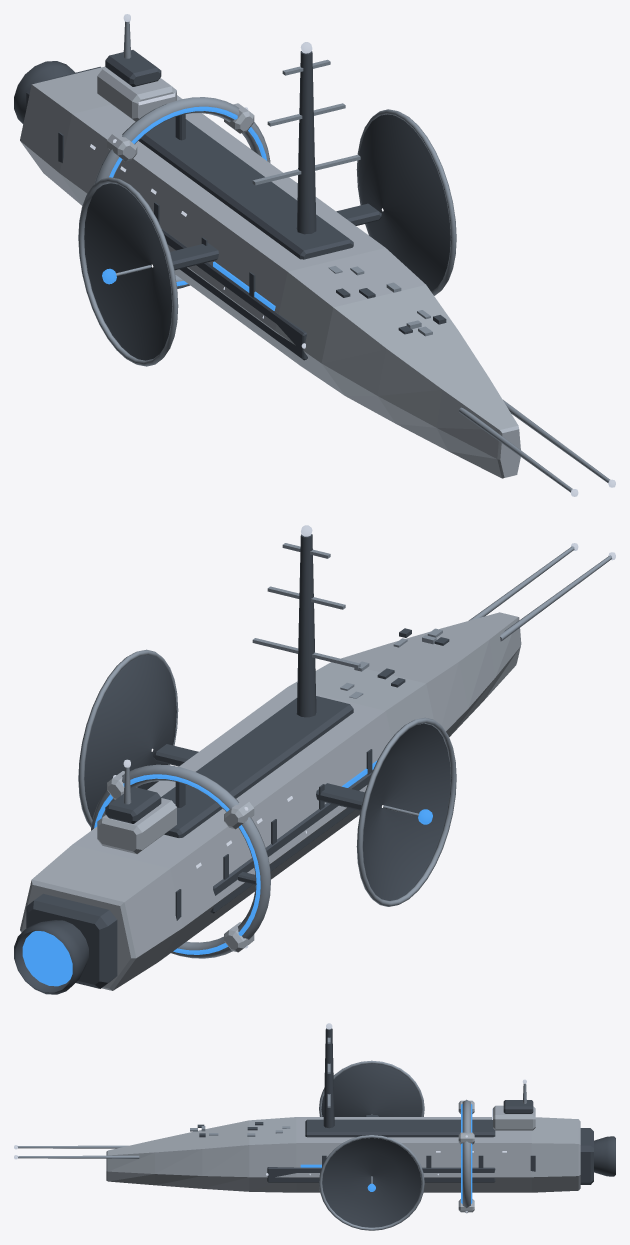
Rendered from comms.glb.
The picture shows the model from 3 angles, top to bottom: view 1: azimuth 30°, elevation 25°; view 2: azimuth 150°, elevation 25°; view 3: azimuth 270°, elevation 25°; orthographic projection. The views are drawn at different scales.
Parts seen in each view (by area): view 1: hull, hull2, trim, team_glow; view 2: hull, hull2, trim, team_glow; view 3: hull, hull2, trim, team_glow.
Boxes of the visible parts, x1,y1,x2,y2 form: hull: (20, 66, 520, 478); hull2: (14, 50, 450, 360); trim: (78, 21, 610, 492); team_glow: (102, 106, 275, 310); hull: (20, 612, 521, 990); hull2: (14, 534, 450, 994); trim: (78, 543, 611, 958); team_glow: (22, 760, 432, 986); hull: (106, 1100, 580, 1212); hull2: (197, 1028, 615, 1227); trim: (17, 1037, 526, 1230); team_glow: (300, 1103, 472, 1203).
Bounding box in the file's own units: 4.38 × 4.3 × 12.69.
